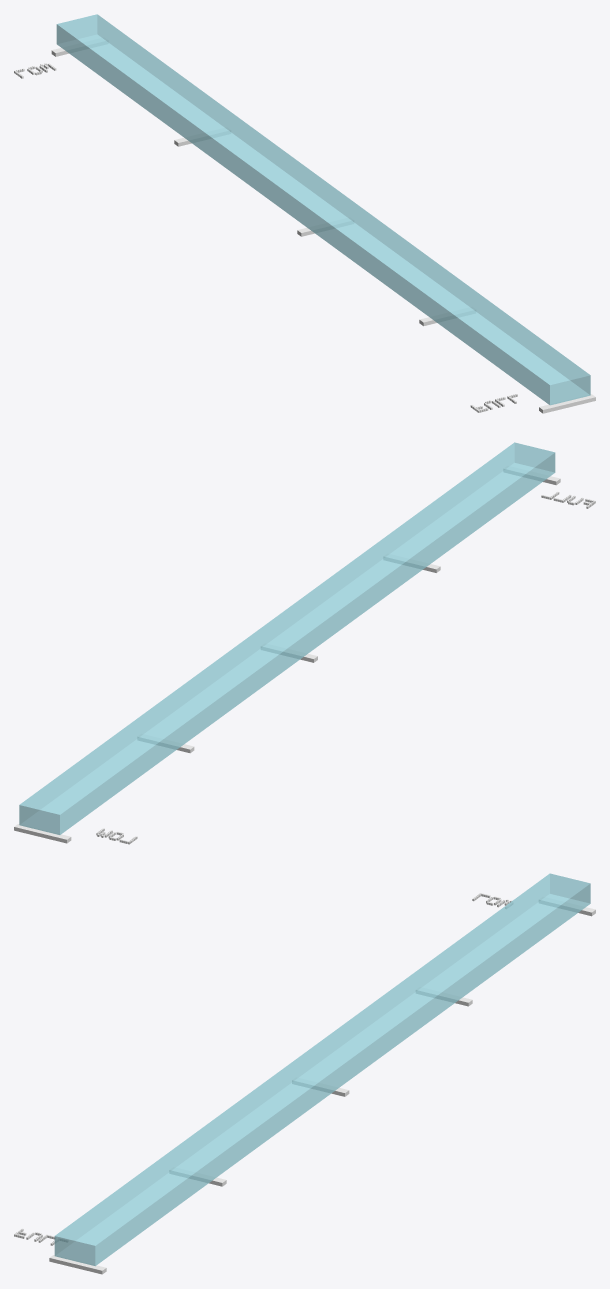
File: MotionReady_Tank_Gauge.obj
The picture shows the model from 3 angles, top to bottom: view 1: azimuth 30°, elevation 25°; view 2: azimuth 150°, elevation 25°; view 3: azimuth 330°, elevation 25°; orthographic projection.
Parts seen in each view (by area): view 1: Tank_Sight_Gauge_Casing, Tank_Gauge_Ticks, Tank_Gauge_Labels; view 2: Tank_Sight_Gauge_Casing, Tank_Gauge_Ticks, Tank_Gauge_Labels; view 3: Tank_Sight_Gauge_Casing, Tank_Gauge_Ticks, Tank_Gauge_Labels.
Boxes of the visible parts, bbox=[...] form: Tank_Sight_Gauge_Casing: bbox=[56, 14, 590, 405]; Tank_Gauge_Ticks: bbox=[51, 38, 595, 413]; Tank_Gauge_Labels: bbox=[14, 63, 517, 412]; Tank_Sight_Gauge_Casing: bbox=[19, 442, 555, 834]; Tank_Gauge_Ticks: bbox=[14, 466, 560, 843]; Tank_Gauge_Labels: bbox=[96, 491, 595, 844]; Tank_Sight_Gauge_Casing: bbox=[54, 873, 590, 1266]; Tank_Gauge_Ticks: bbox=[49, 897, 595, 1274]; Tank_Gauge_Labels: bbox=[14, 893, 512, 1245].
Size of the model in its own units: 202 by 52 by 1680.
